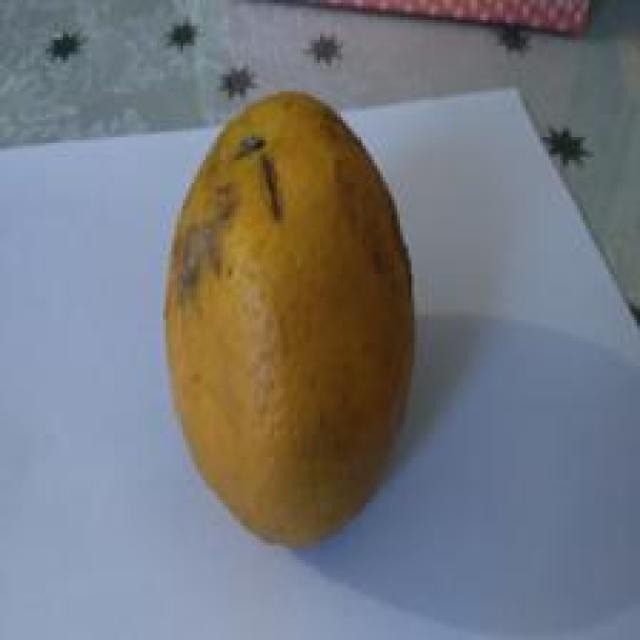overripe: (161, 91, 425, 554)
